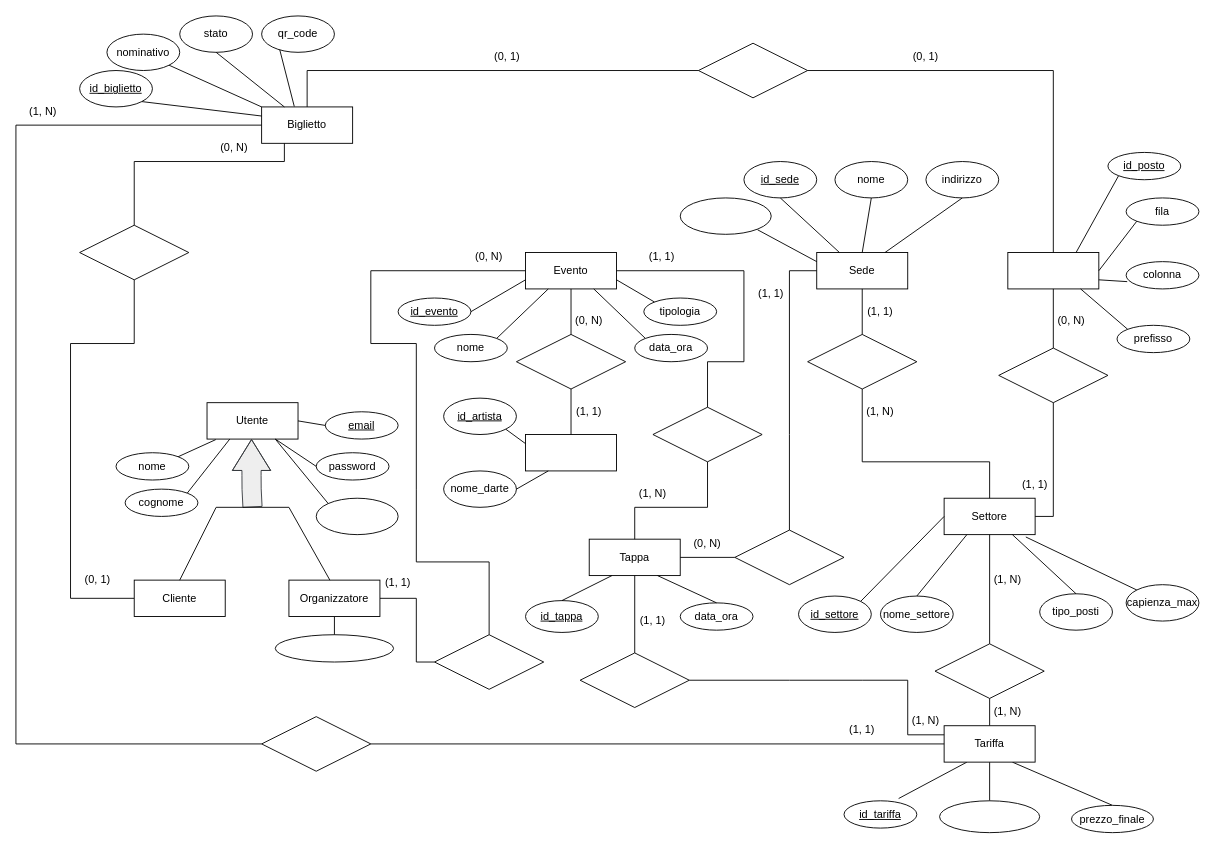
The diagram is 1215 pixels wide and 849 high, and some of its shapes have lost their labels. The box of each missing label's shape, as (x1, y1, x2, y2) in pixels:
acquista: (79, 224, 189, 280)
applicata a: (934, 643, 1044, 698)
Artista: (525, 434, 617, 471)
contiene: (998, 347, 1108, 403)
data_di_nascita: (315, 497, 398, 535)
definisce: (579, 652, 689, 708)
divisa in: (807, 334, 917, 389)
email organizzatore: (679, 197, 771, 234)
nome_organizzazione: (274, 634, 394, 662)
organizza: (434, 634, 544, 689)
ospita: (734, 529, 844, 585)
Possiede: (261, 716, 371, 771)
Posto: (1007, 252, 1099, 289)
prevede: (652, 406, 762, 462)
riserva: (698, 42, 808, 98)
si esibisce in: (516, 334, 626, 389)
tipologia_biglietto: (939, 800, 1040, 833)
